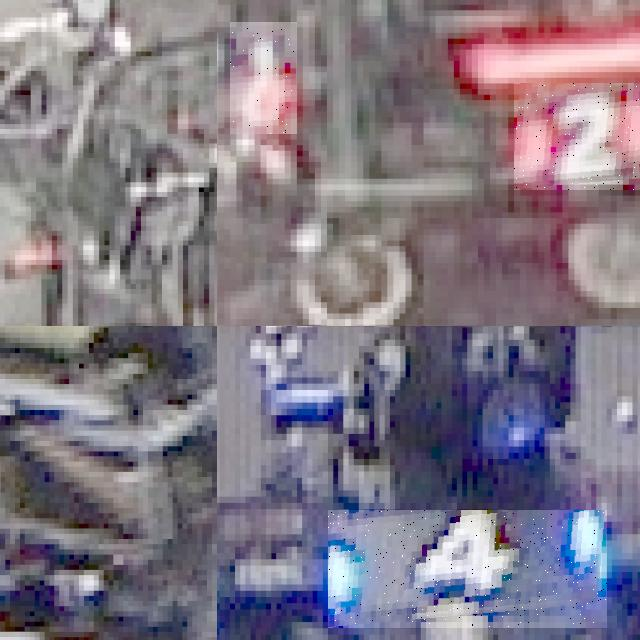B4: (328, 510, 607, 628)
R2: (514, 83, 640, 189), (230, 22, 297, 134)
